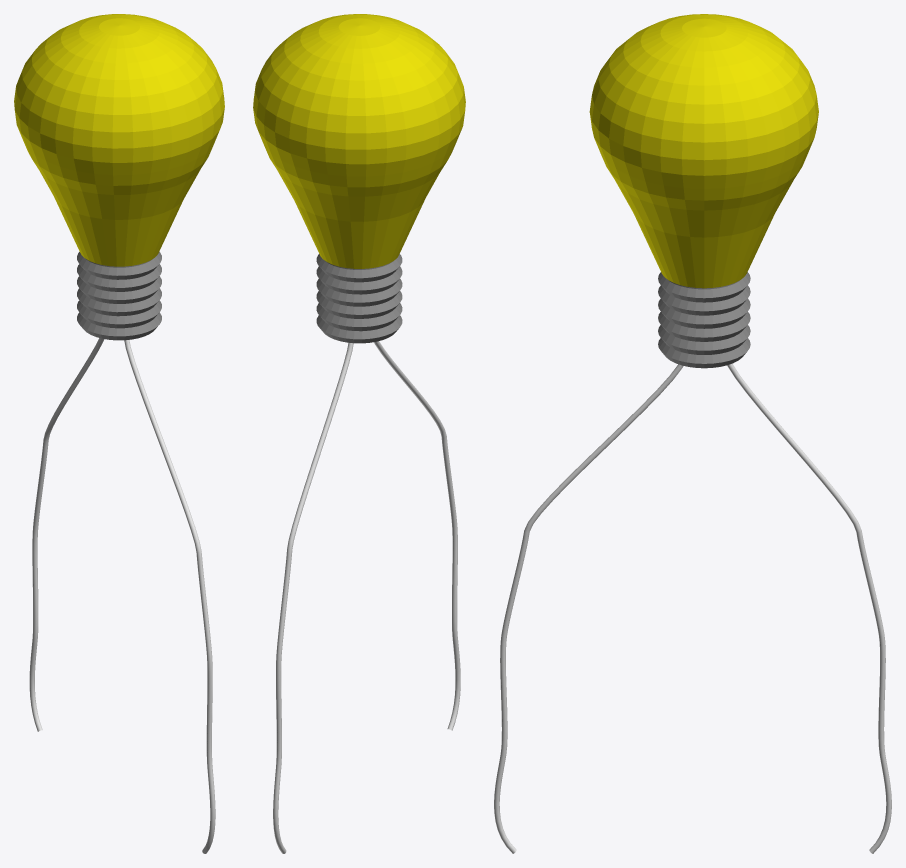
Rendered from final on bulb.gltf.
The picture shows the model from 3 angles, left to right: view 1: azimuth 30°, elevation 25°; view 2: azimuth 150°, elevation 25°; view 3: azimuth 270°, elevation 25°; orthographic projection. The views are drawn at different scales.
Visible parts, largest first — view 1: Sphere.001, BezierCurve.001; view 2: Sphere.001, BezierCurve.001; view 3: Sphere.001, BezierCurve.001.
Part boxes in pixels (x1=…): Sphere.001: x1=14, y1=14, x2=224, y2=340; BezierCurve.001: x1=29, y1=338, x2=215, y2=853; Sphere.001: x1=253, y1=14, x2=465, y2=343; BezierCurve.001: x1=273, y1=341, x2=460, y2=853; Sphere.001: x1=589, y1=14, x2=818, y2=368; BezierCurve.001: x1=494, y1=363, x2=891, y2=853.
Size of the model in its own units: 5.58 by 22.23 by 9.68.
